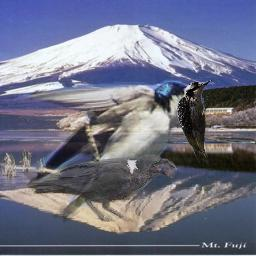Crow: (26, 153, 177, 223)
Swallow: (14, 78, 204, 224)
Woodpecker: (174, 76, 214, 166)
